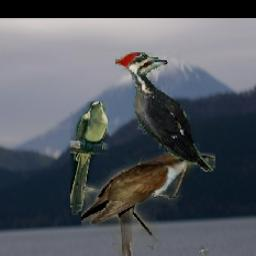Cuckoo: (81, 153, 215, 256), (69, 102, 108, 216)
Woodpecker: (114, 53, 214, 173)
